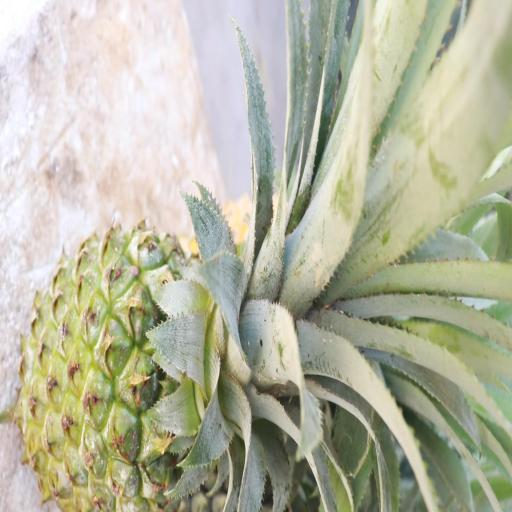------------------------------: (20, 235, 296, 511)
